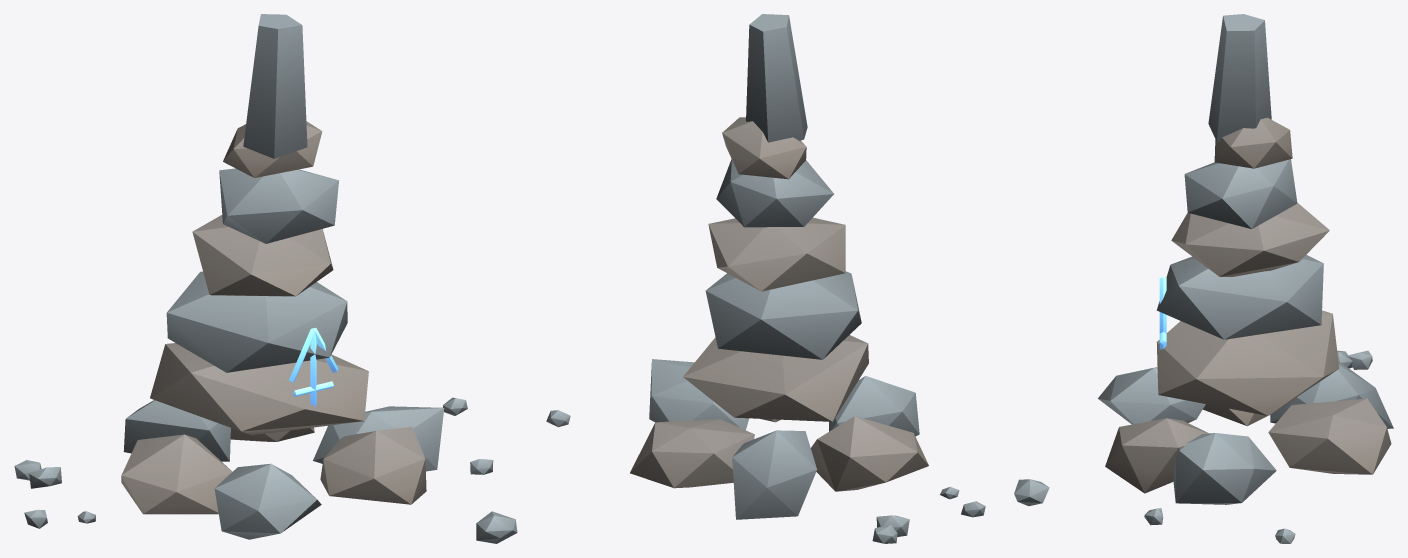
File: giant_cairn.glb
3 views of the same model, side by side, from view 1: azimuth 30°, elevation 25°; view 2: azimuth 150°, elevation 25°; view 3: azimuth 270°, elevation 25° (orthographic). The views are drawn at different scales.
Parts seen in each view (by area): view 1: giant_cairn; view 2: giant_cairn; view 3: giant_cairn.
Part boxes in pixels (x1=…): giant_cairn: x1=14, y1=14, x2=517, y2=543; giant_cairn: x1=546, y1=14, x2=985, y2=543; giant_cairn: x1=1014, y1=14, x2=1393, y2=543.
Size of the model in its own units: 7.13 by 7.23 by 5.58.
2 materials, 2 textured.
